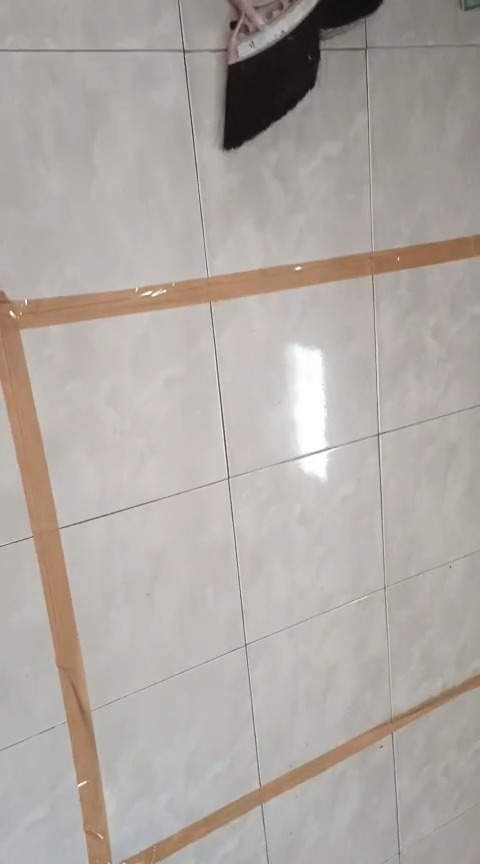floor marking: (0, 234, 479, 863), (124, 674, 479, 863)
